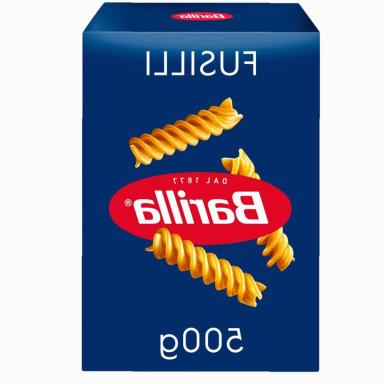pasta package: (83, 3, 319, 371)
